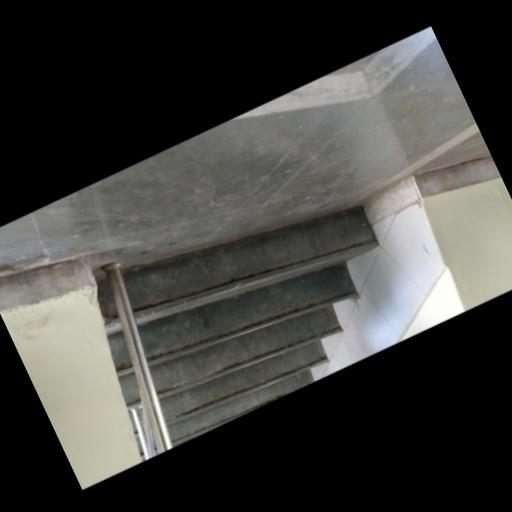stairs: (122, 206, 376, 445)
